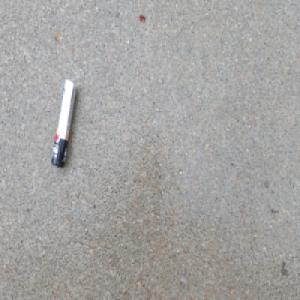Battery: (50, 77, 79, 169)
